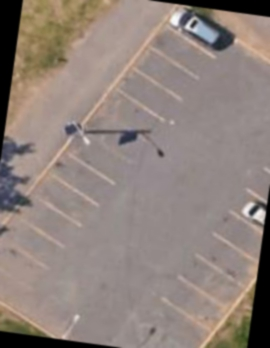parkingspot: (0, 3, 242, 318), (155, 147, 270, 338)
